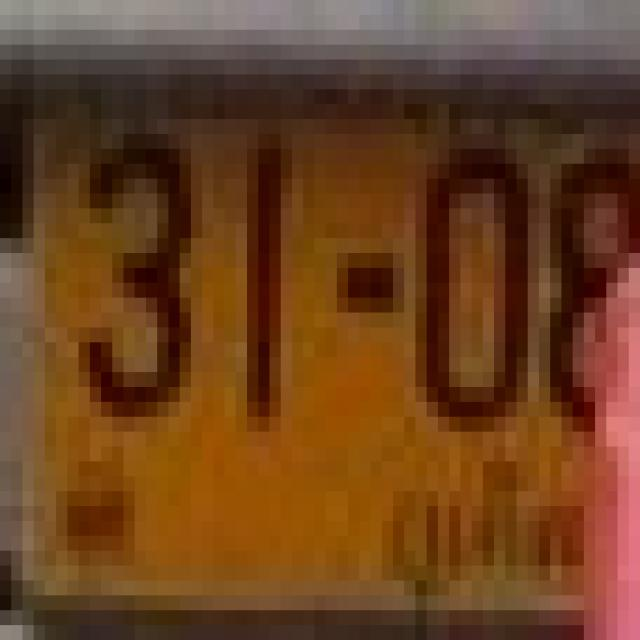1: (226, 108, 312, 451)
3: (60, 115, 228, 477)
PKT: (357, 439, 607, 640)
